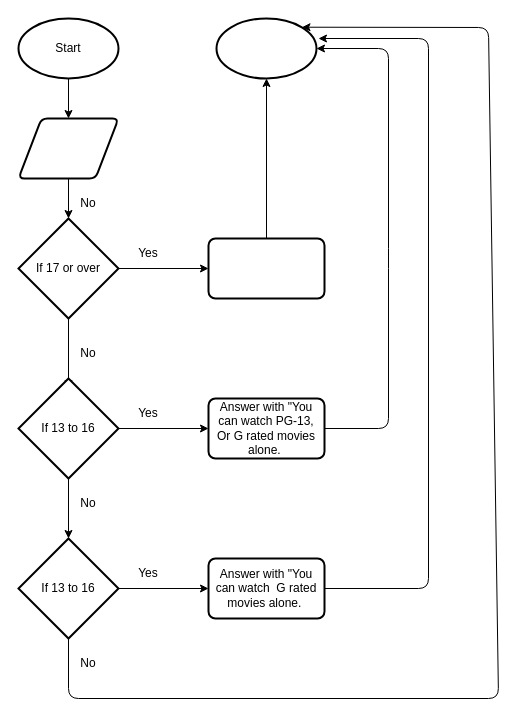
This 524x724 diagram has some shape labels left out. Each missing label, with the box of its shape:
Answer with "You can watch R,PG-13, Or G rated movies alone.: (207, 237, 325, 299)
Stop: (215, 17, 317, 79)
User choose Age: (17, 117, 119, 179)
